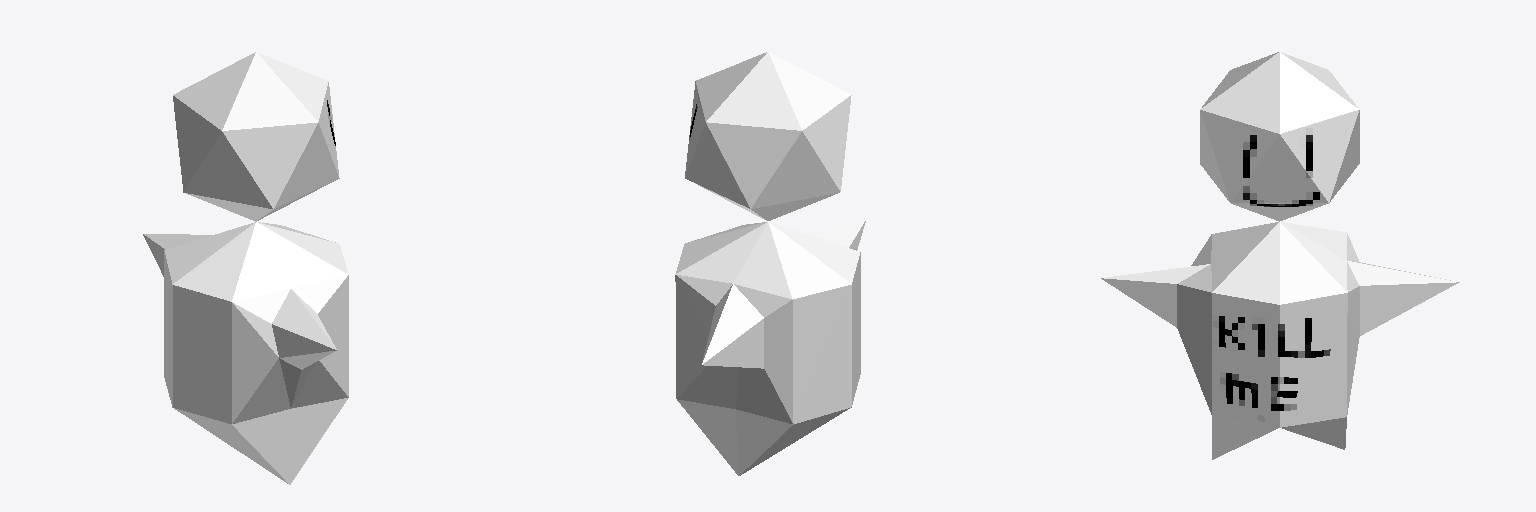
3 views of the same model, side by side, from view 1: azimuth 30°, elevation 25°; view 2: azimuth 150°, elevation 25°; view 3: azimuth 270°, elevation 25° (orthographic).
Parts seen in each view (by area): view 1: Cube; view 2: Cube; view 3: Cube.
Part boxes in pixels (x1,y1,x2,y2): Cube: (143,52,348,484); Cube: (675,52,865,475); Cube: (1101,52,1459,459).
Size of the model in its own units: 2.85 by 6.65 by 5.3.
Materials: 1 (1 with a texture image).